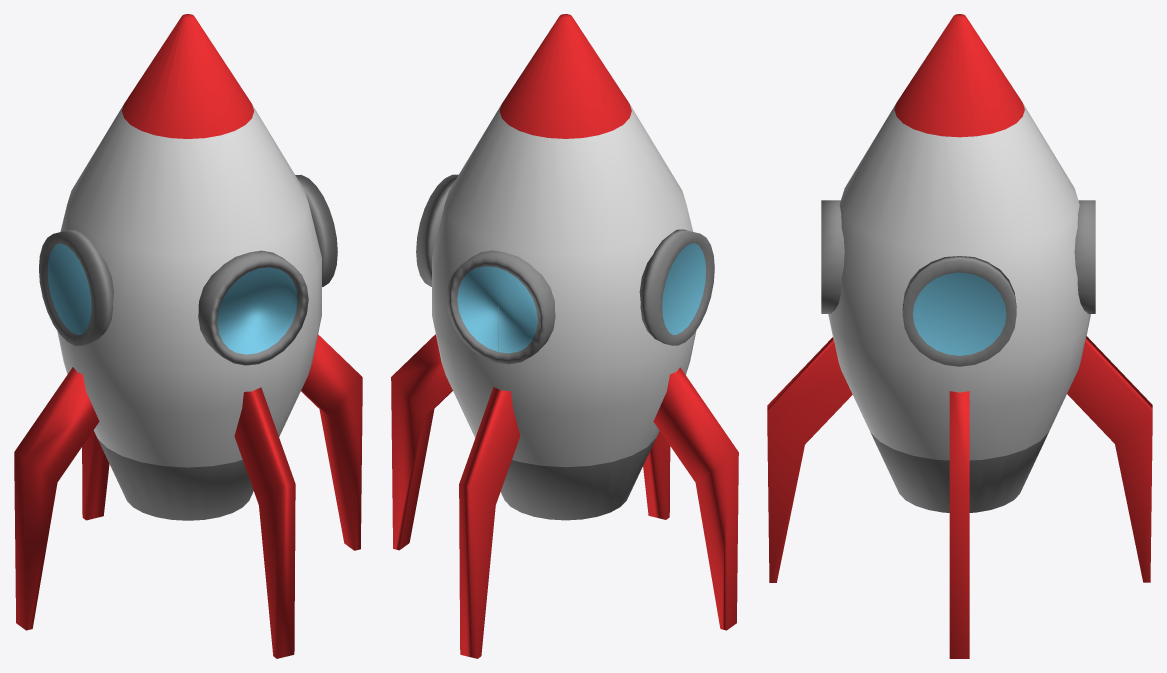
The model's file is Rocket.fbx.
The picture shows the model from 3 angles, left to right: view 1: azimuth 30°, elevation 25°; view 2: azimuth 150°, elevation 25°; view 3: azimuth 270°, elevation 25°; orthographic projection.
Parts seen in each view (by area): view 1: Rocket; view 2: Rocket; view 3: Rocket.
Boxes of the visible parts, x1,y1,x2,y2 form: Rocket: [14, 14, 362, 658]; Rocket: [391, 14, 738, 658]; Rocket: [767, 14, 1152, 658].
Bounding box in the file's own units: 364 × 586 × 365.
